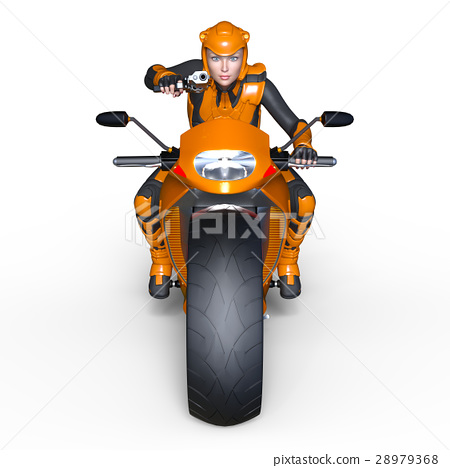helmet: (193, 14, 259, 75)
